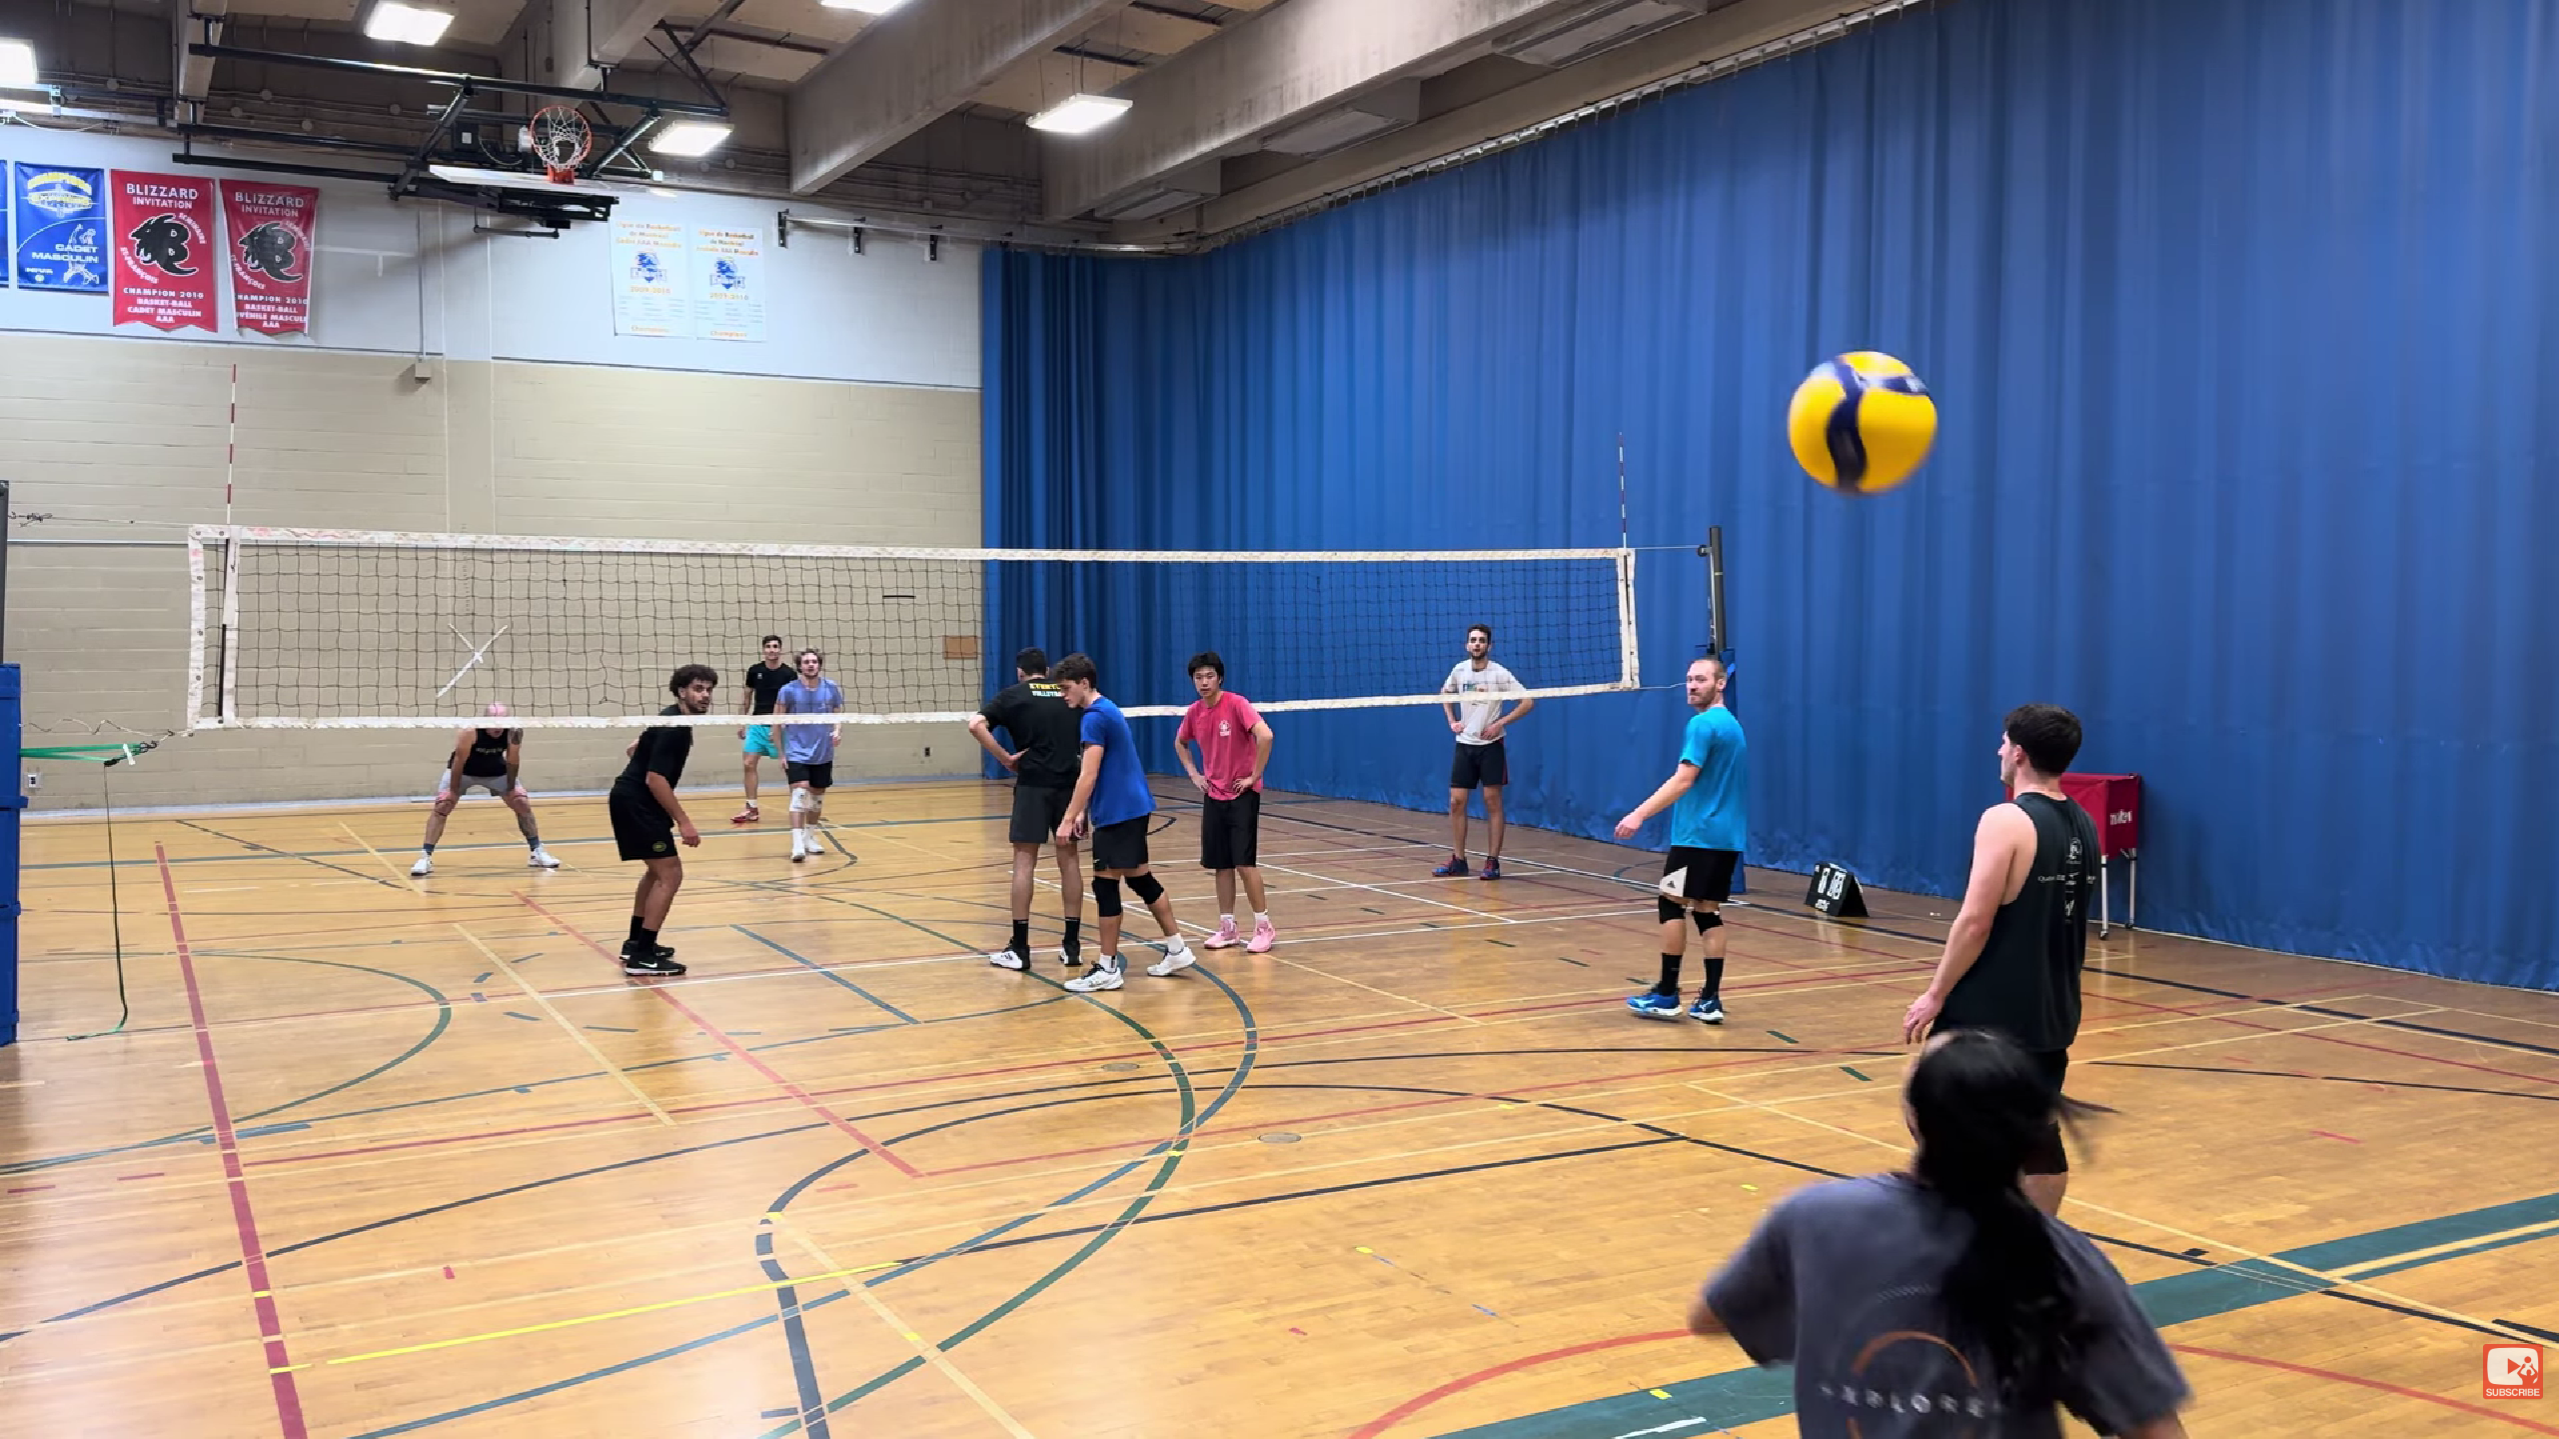Ball: (1782, 346, 1940, 499)
